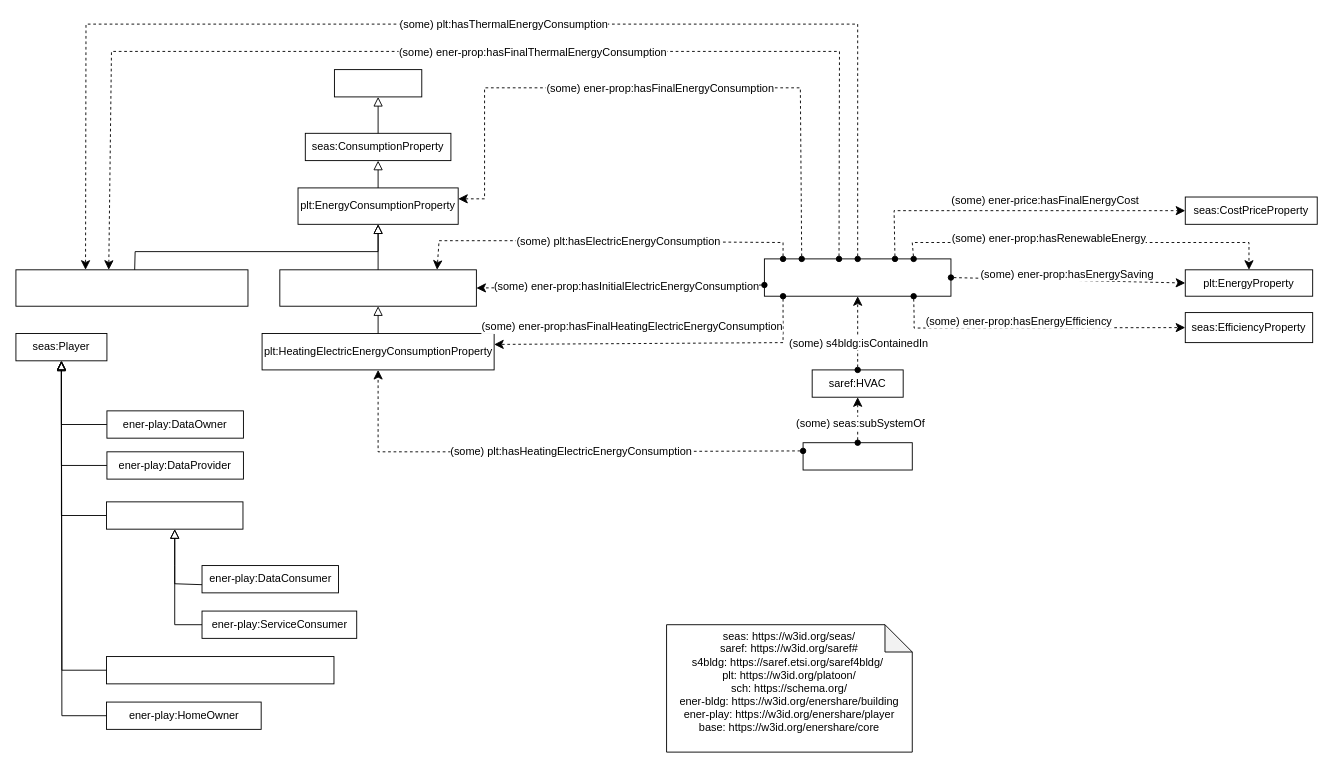
This 1333x776 diagram has some shape labels left out. The centre of each missing label's shape, as x and y in pixels:
"ener-play:EnergyServiceProviderConnector" belongs at (x=220, y=670).
"plt:ElectricEnergyConsumptionProperty" belongs at (x=377, y=287).
"plt:HeatingSystem" belongs at (x=857, y=456).
"plt:ThermalEnergyConsumptionProperty" belongs at (x=131, y=287).
"seas:Building" belongs at (x=857, y=277).
"seas:Consumer" belongs at (x=174, y=515).
"seas:Property" belongs at (x=378, y=83).
